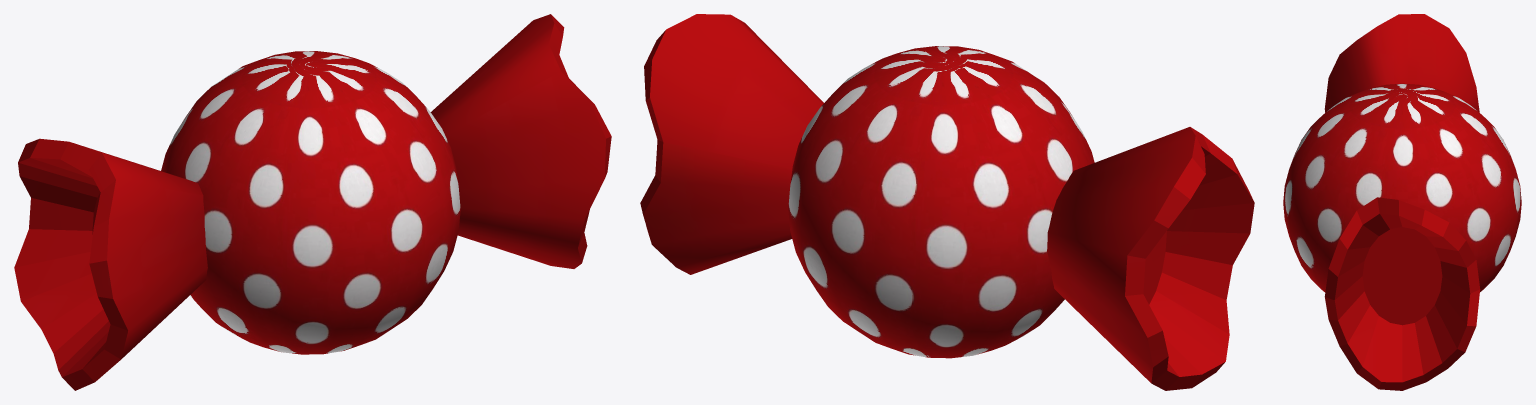
Rendered from Candy.fbx.
3 views of the same model, side by side, from view 1: azimuth 30°, elevation 25°; view 2: azimuth 150°, elevation 25°; view 3: azimuth 270°, elevation 25° (orthographic). The views are drawn at different scales.
Parts seen in each view (by area): view 1: Candy, CandyWIng; view 2: CandyWIng, Candy; view 3: CandyWIng, Candy.
Boxes of the visible parts, left/top/right/bottom form: Candy: left=161, top=51, right=460, bottom=354; CandyWIng: left=14, top=14, right=611, bottom=390; CandyWIng: left=640, top=14, right=1254, bottom=390; Candy: left=788, top=46, right=1094, bottom=358; CandyWIng: left=1324, top=14, right=1480, bottom=390; Candy: left=1283, top=83, right=1521, bottom=292.
Size of the model in its own units: 4.06 by 2 by 2.
Materials: 2 (2 with a texture image).
